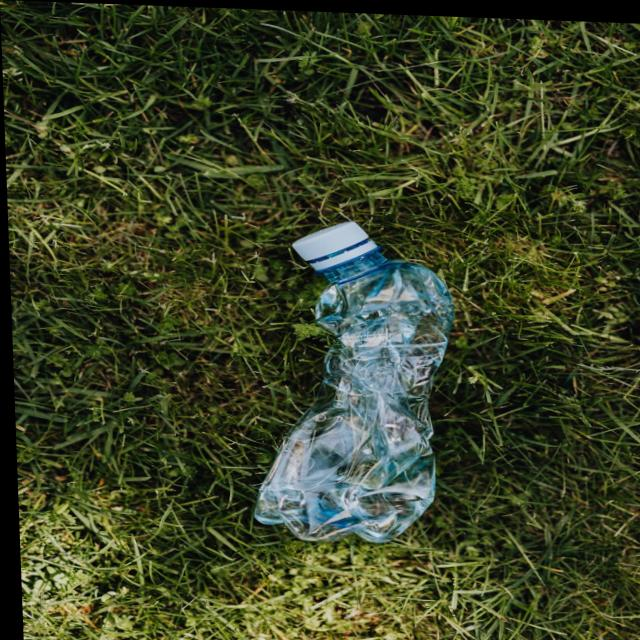Plastic: (217, 207, 472, 550)
